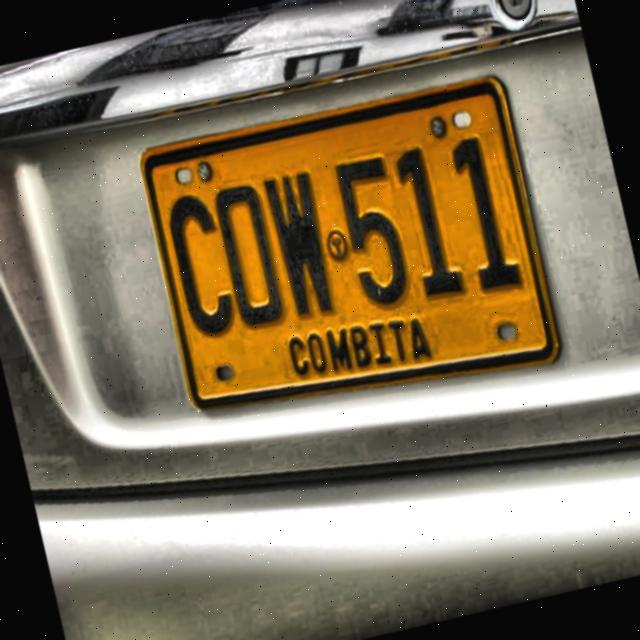1: (386, 140, 476, 304), (444, 128, 528, 300)
5: (331, 150, 418, 314)
C: (158, 182, 242, 344)
O: (208, 176, 290, 334)
W: (260, 164, 344, 326)
